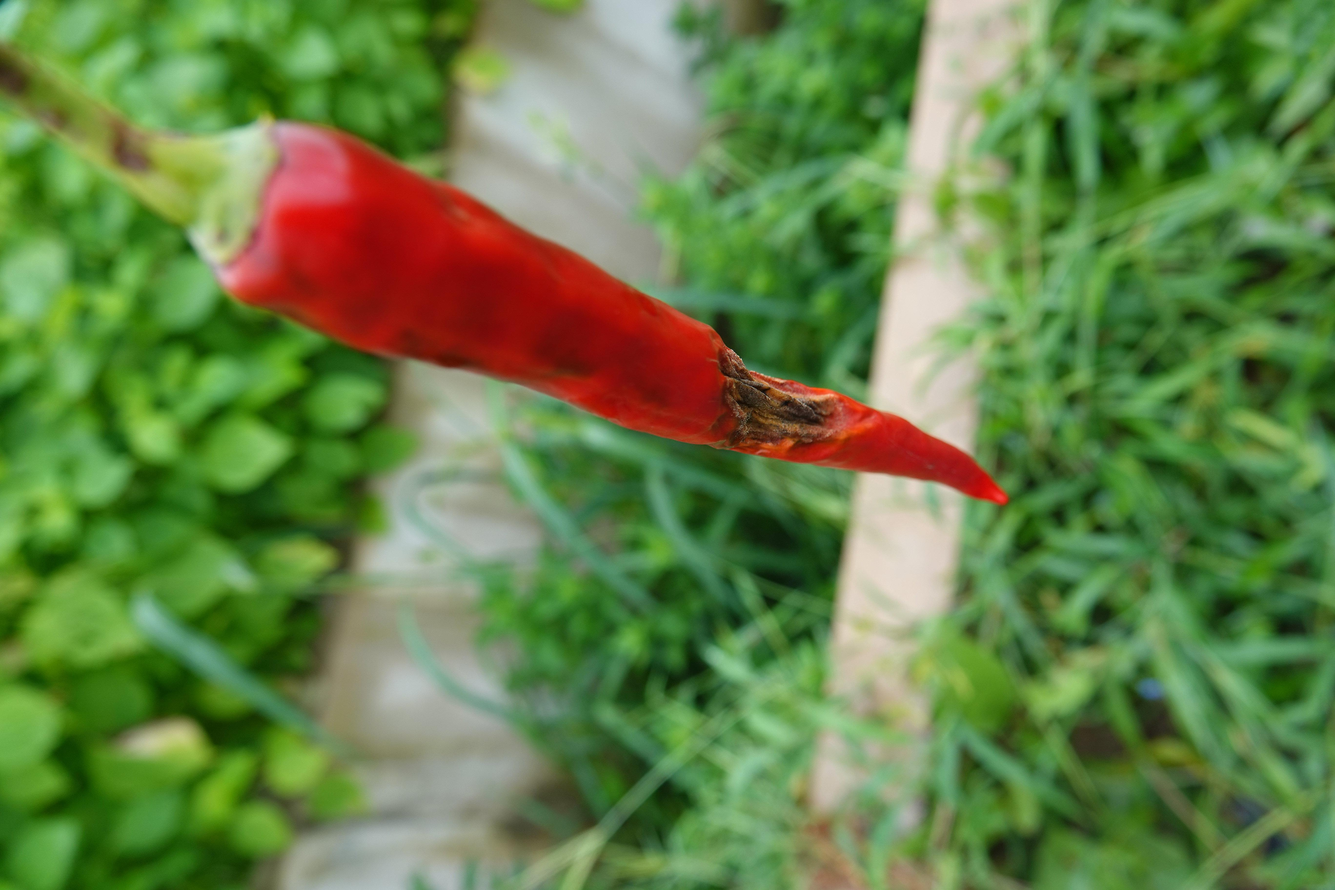Busuk Buah Antraknosa: (181, 112, 1010, 509)
